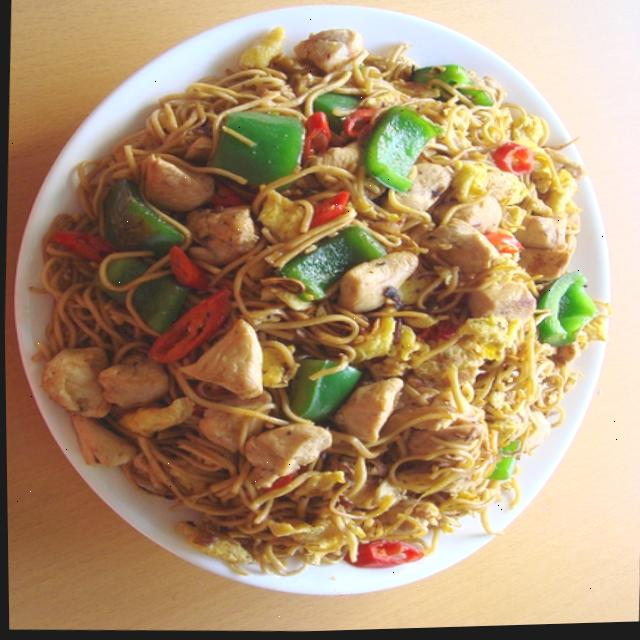面条主食: (16, 16, 615, 606)
